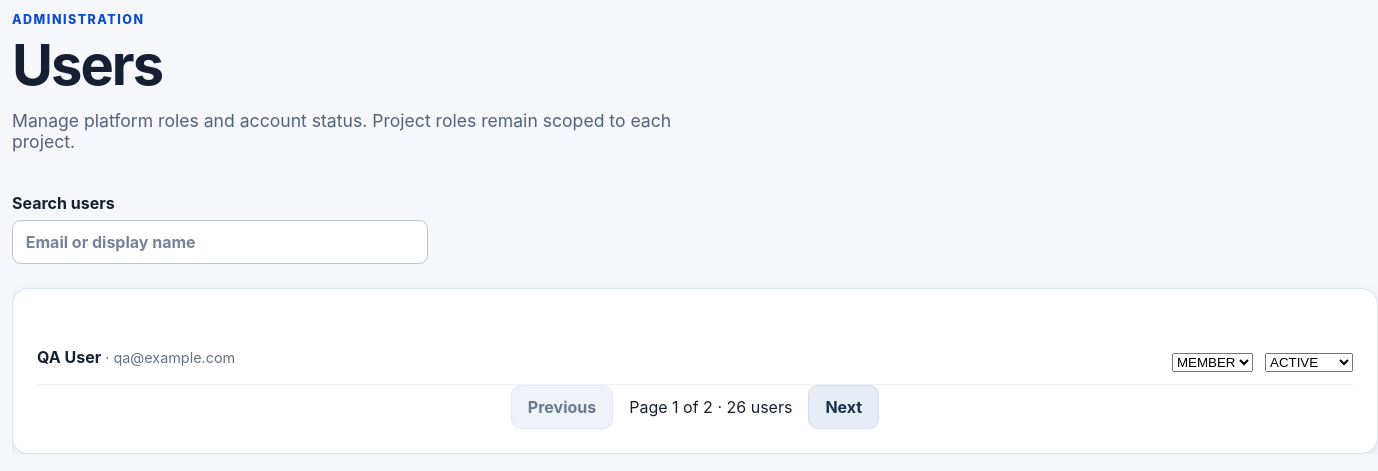
it: AdminUsersPage › keeps pagination in the request and exposes a current page
Expected: the text "QA User" is shown, [37,347,101,367]
Expected: the text "Page 1 of 2 · 26 users" is shown, [629,397,792,417]
Click the button "Next" at (844, 407), box [808,385,879,429]
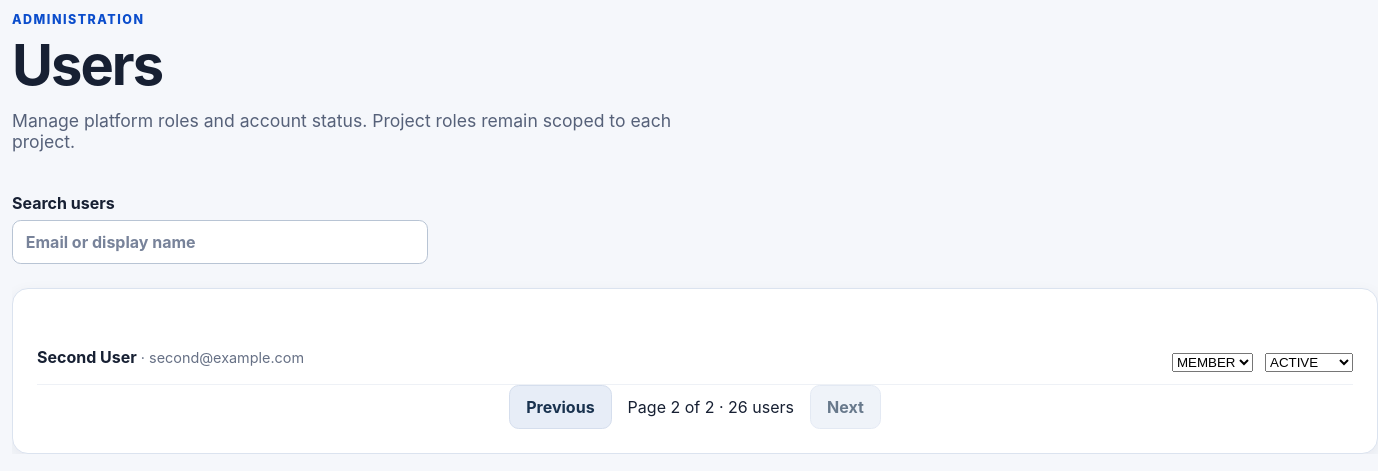
Now the text "Second User" is shown, box [37,347,137,367]
Now the text "Page 2 of 2 · 26 users" is shown, box [628,397,794,417]
